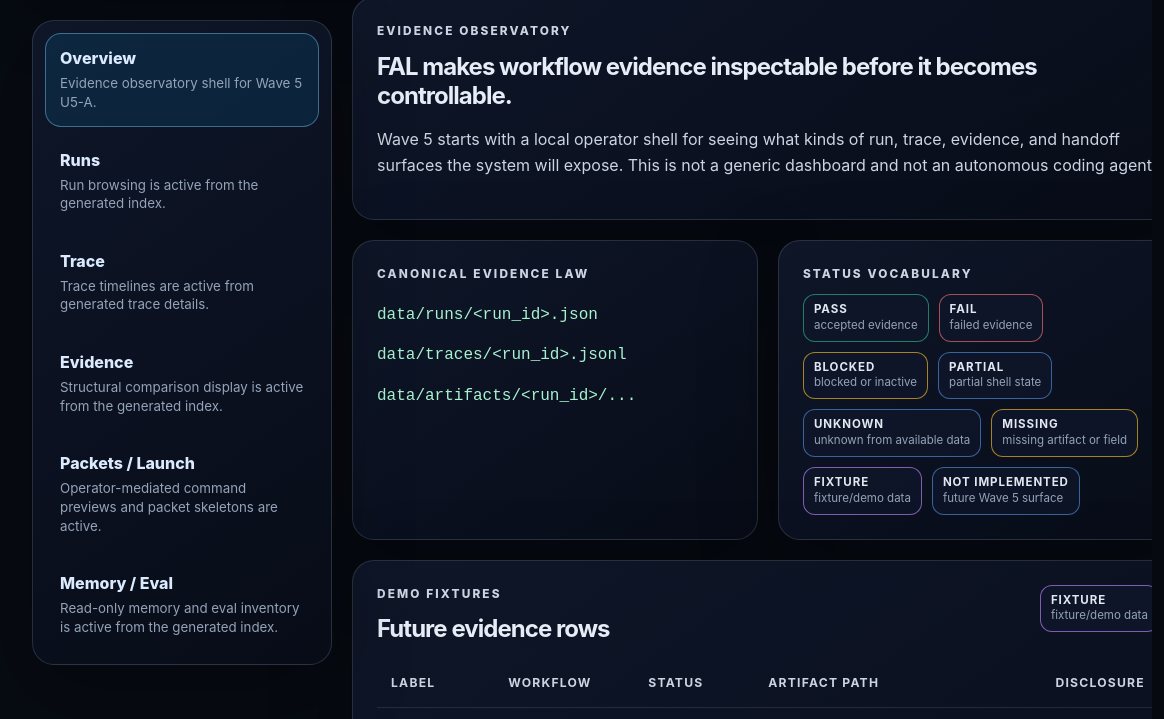
U5-A workbench shell › keeps manual non-suggested pair selection blocked and not PASS
The image size is (1164, 719).
(page scrolled)
Click the button "Evidence" at (182, 384), box x1=45 y1=337 x2=319 y2=430
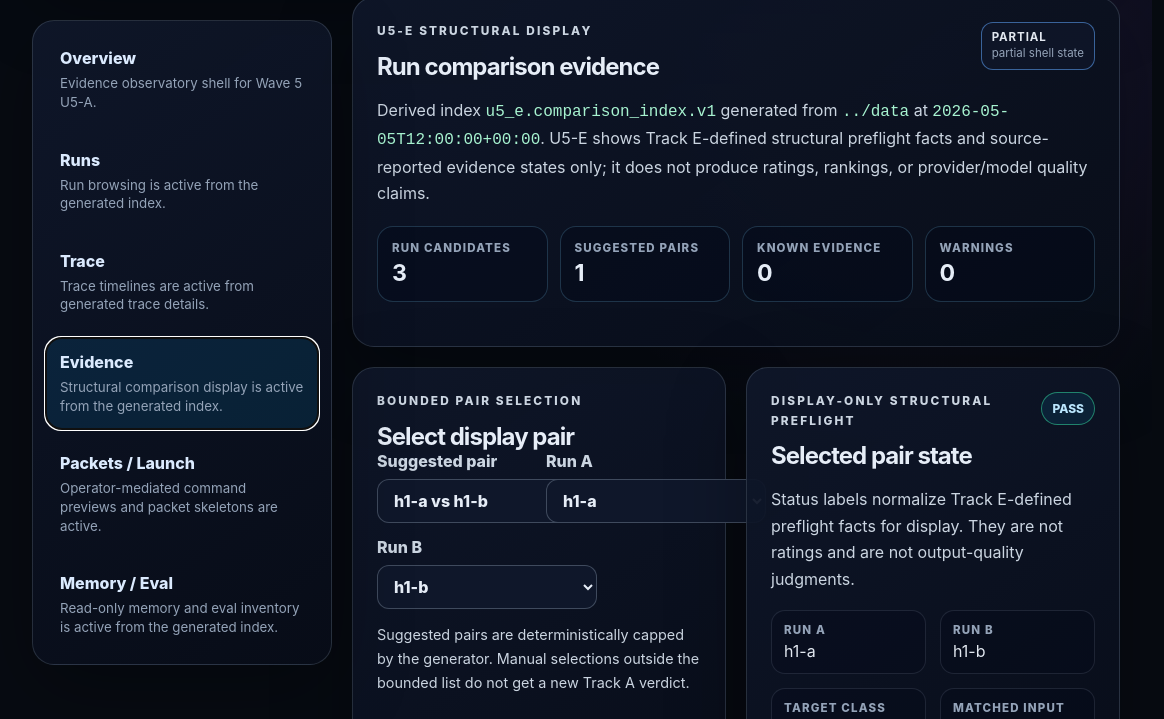
Expected: the heading "Run comparison evidence" is shown, x1=377 y1=52 x2=659 y2=81
Select "h1-a" in the dropdown labelled "Run A" at (656, 501), box x1=546 y1=479 x2=766 y2=523
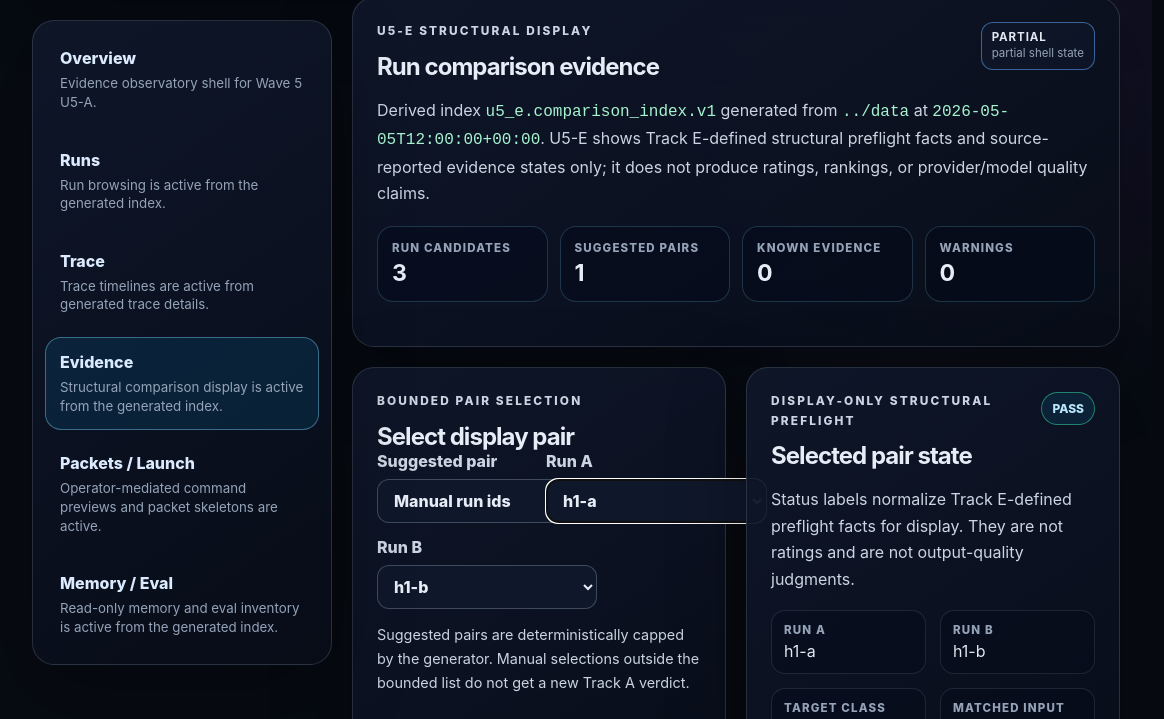
Select "h1-c" in the dropdown labelled "Run B" at (487, 587), box x1=377 y1=565 x2=597 y2=609
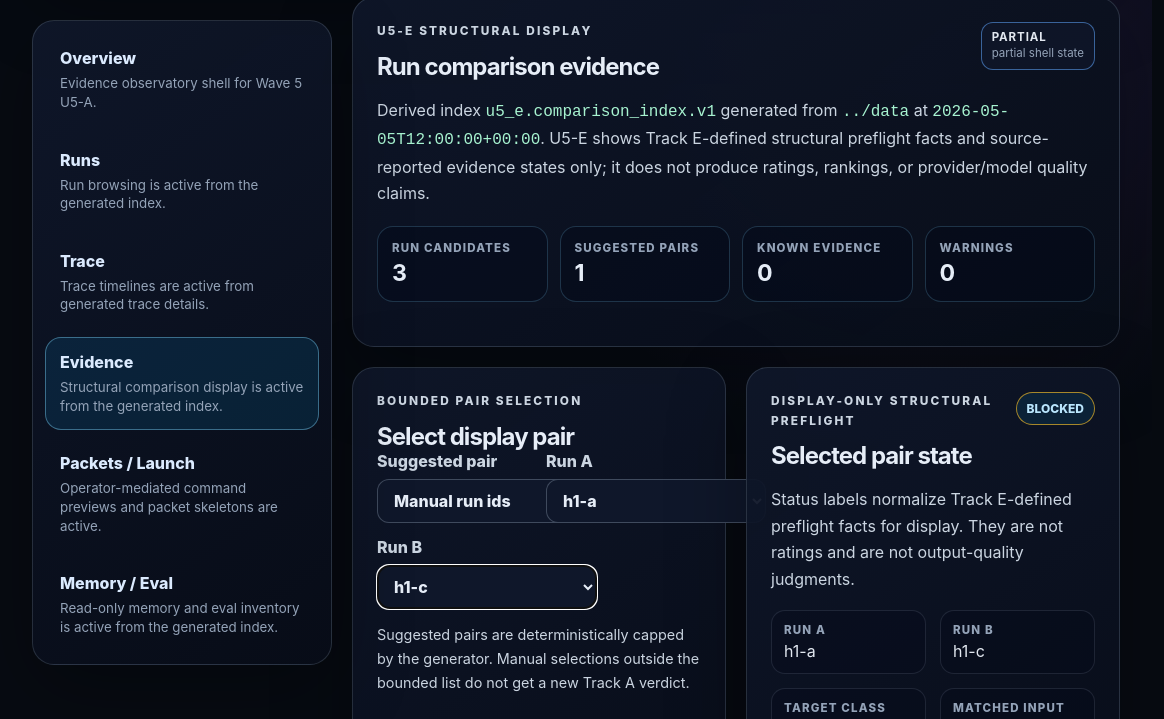
Expected: the text "PASS" is gone
Expected: the text "BLOCKED" is shown, x1=1016 y1=392 x2=1095 y2=425
